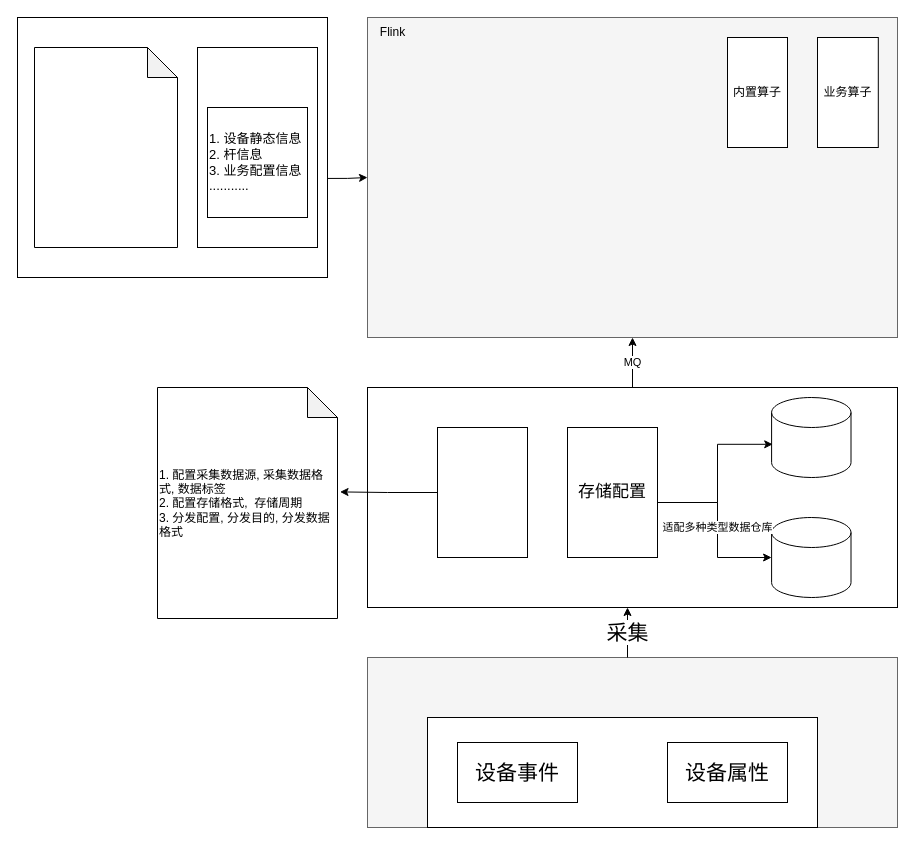
The diagram is 915 pixels wide and 845 high, and some of its shapes have lost their labels. The shapes that lost their labels are listed below. From the top down, each one's box as (x1, y1, x2, y2) in pixels, then its label:
(196, 46, 318, 248): 公共维度
(771, 396, 851, 478): YashanDb
(436, 426, 528, 558): 采集元数据配置
(771, 516, 851, 598): ClickHouse
